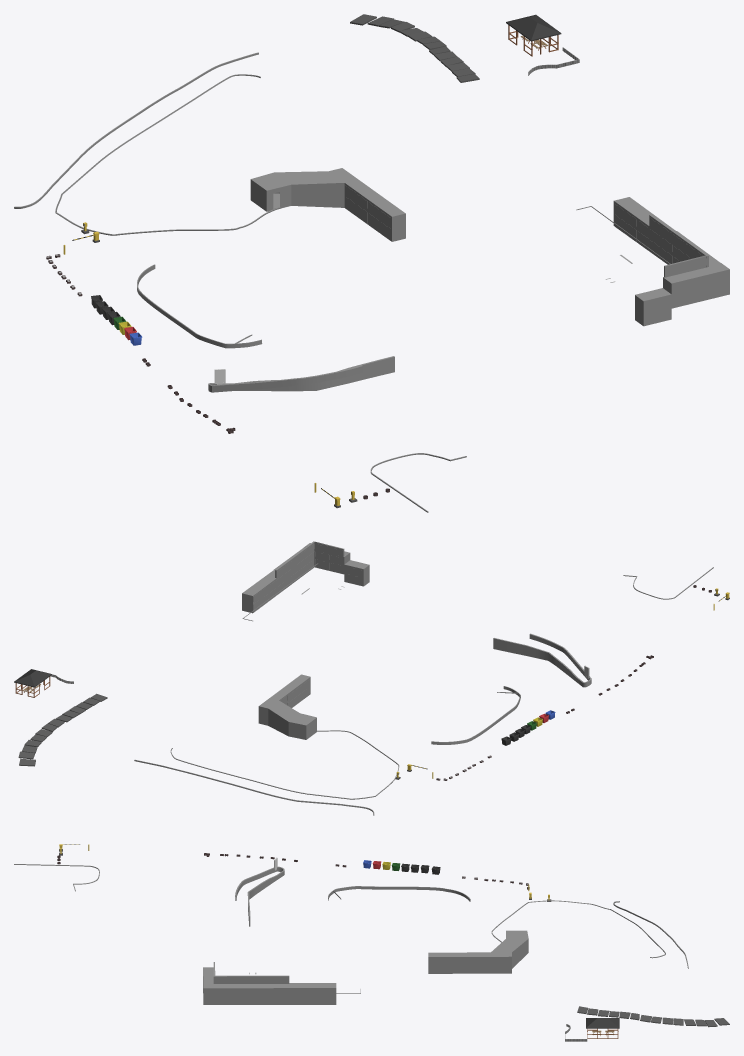
Rendered from Outside_Collision.fbx.
3 views of the same model, one above another, from view 1: azimuth 30°, elevation 25°; view 2: azimuth 150°, elevation 25°; view 3: azimuth 270°, elevation 25° (orthographic). The views are drawn at different scales.
Parts seen in each view (by area): view 1: cesta.1952, cesta.1941, cesta.1244, cesta.1412, cesta.125, cesta.113, cesta.1757, cesta.1029, cesta.126; view 2: cesta.1952, cesta.1941, cesta.1244, cesta.1412, cesta.125, cesta.126, cesta.113; view 3: cesta.1952, cesta.1941, cesta.1412, cesta.1244, cesta.113, cesta.1029, cesta.1757, cesta.125.
Boxes of the visible parts, x1=… form: cesta.1952: x1=613, y1=197, x2=729, y2=326; cesta.1941: x1=250, y1=168, x2=405, y2=241; cesta.1244: x1=208, y1=356, x2=394, y2=392; cesta.1412: x1=350, y1=14, x2=479, y2=82; cesta.125: x1=55, y1=74, x2=281, y2=235; cesta.113: x1=91, y1=295, x2=142, y2=345; cesta.1757: x1=506, y1=14, x2=561, y2=41; cesta.1029: x1=137, y1=264, x2=262, y2=348; cesta.126: x1=14, y1=52, x2=258, y2=208; cesta.1952: x1=242, y1=541, x2=369, y2=613; cesta.1941: x1=258, y1=674, x2=316, y2=739; cesta.1244: x1=493, y1=633, x2=591, y2=687; cesta.1412: x1=18, y1=693, x2=107, y2=766; cesta.125: x1=170, y1=730, x2=399, y2=799; cesta.126: x1=134, y1=759, x2=374, y2=815; cesta.113: x1=501, y1=710, x2=555, y2=745; cesta.1952: x1=203, y1=962, x2=336, y2=1004; cesta.1941: x1=428, y1=930, x2=528, y2=973; cesta.1412: x1=577, y1=1006, x2=729, y2=1027; cesta.1244: x1=235, y1=866, x2=284, y2=926; cesta.113: x1=363, y1=860, x2=440, y2=874; cesta.1029: x1=328, y1=886, x2=470, y2=901; cesta.1757: x1=586, y1=1018, x2=619, y2=1028; cesta.125: x1=491, y1=900, x2=665, y2=958.
Size of the model in its own units: 9215 by 1132 by 13757.
